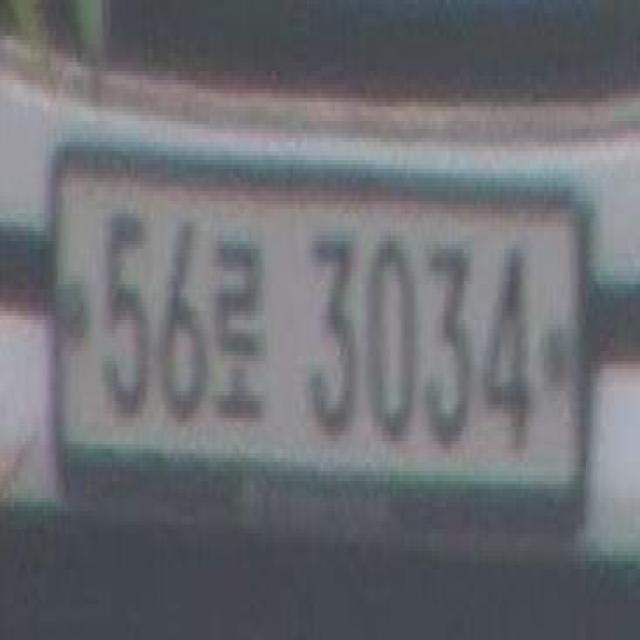illegal_plate: (52, 140, 600, 536)
